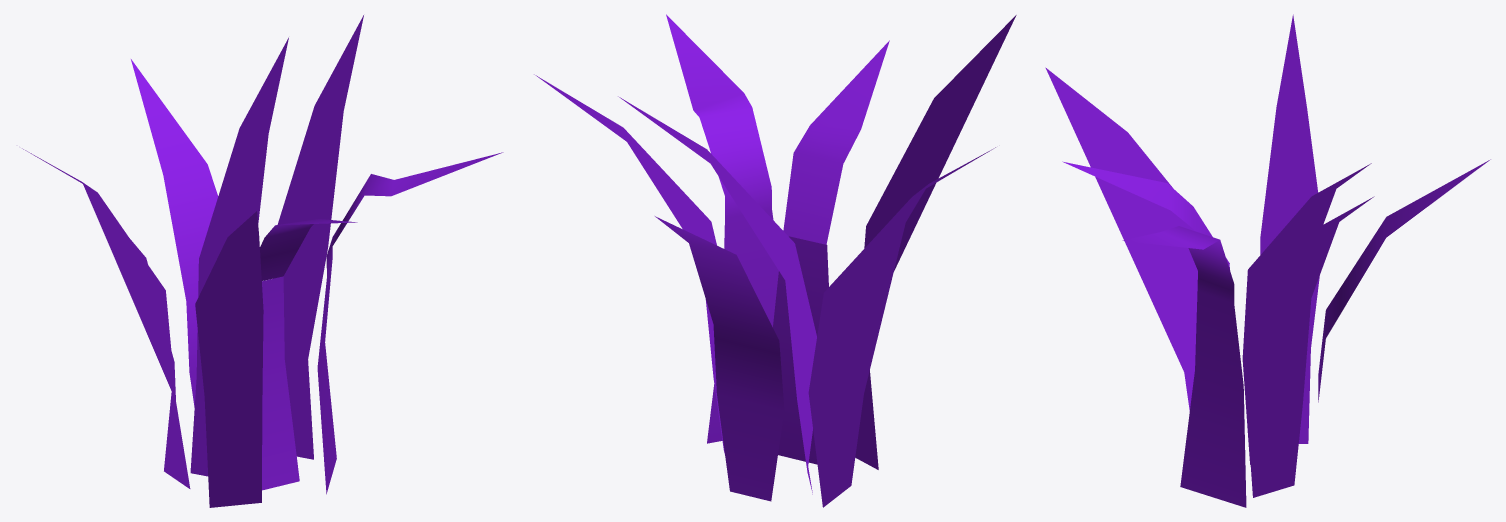
File: grass1 (1).fbx
3 views of the same model, side by side, from view 1: azimuth 30°, elevation 25°; view 2: azimuth 150°, elevation 25°; view 3: azimuth 270°, elevation 25° (orthographic). The views are drawn at different scales.
Visible parts, largest first — view 1: Plane.006; view 2: Plane.006; view 3: Plane.006.
Part boxes in pixels (<box>): Plane.006: <box>22,15,503,507</box>; Plane.006: <box>534,14,1016,507</box>; Plane.006: <box>1045,14,1490,507</box>.
Bounding box in the file's own units: 244 × 218 × 245.
